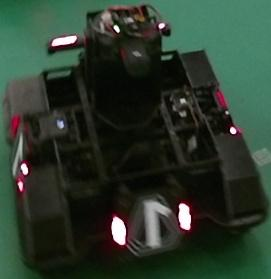armor_1: (112, 204, 193, 245)
front_1: (126, 193, 183, 257)
